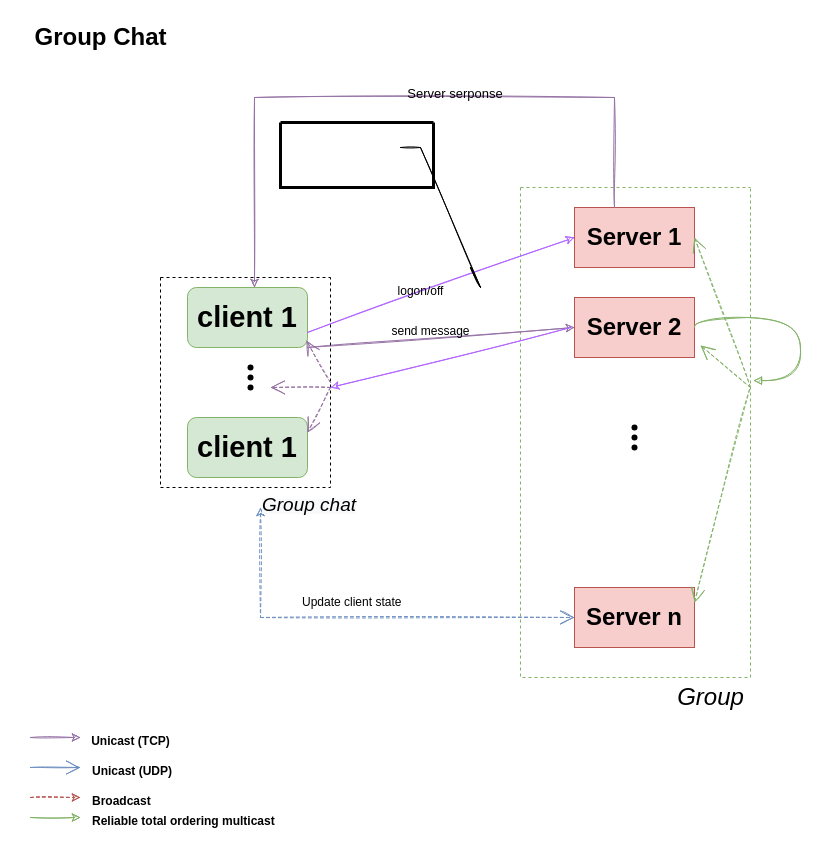
Some shapes in this 819 by 864 pixel diagram are drawn without their labels. The centre of each missing label's shape, as x and y in pixels:
Dynamically assigned: the point at 356,154
Leader: the point at 635,432
